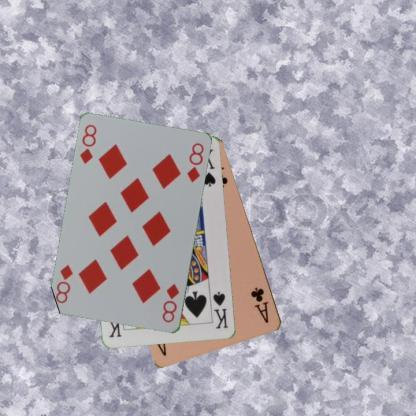8d: (160, 282, 181, 324), (78, 122, 98, 166)
Ac: (248, 284, 270, 325)
Ks: (210, 288, 230, 330)
